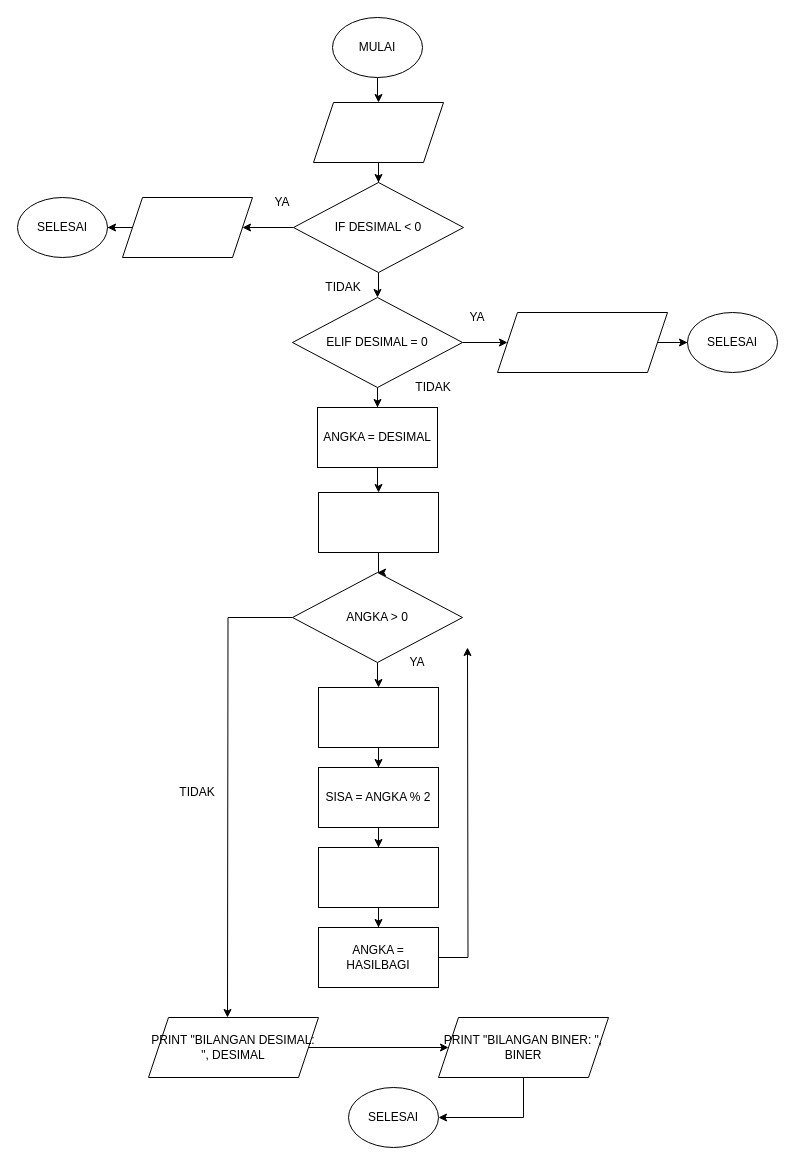
Image size: 795x1165. Some labels were removed from this diagram. Each missing label, with the centre of its shape:
BINER = " ": [378,522]
BINER = STR(SISA) + BINER: [378,877]
HASILBAGI = ANGKA // 2: [378,717]
INPUT DESIMAL: [378,132]
OUTPUT "0 DALAM BINER ADALAH 0": [582,342]
OUTPUT "BILANGAN >= 0": [187,227]
